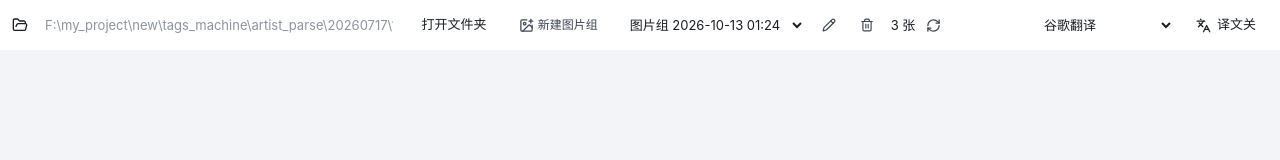
Test case: workspace bar › renames the current image group inline
Step 1. Click the button named "改名" → (829, 25), box [815,11,843,39]
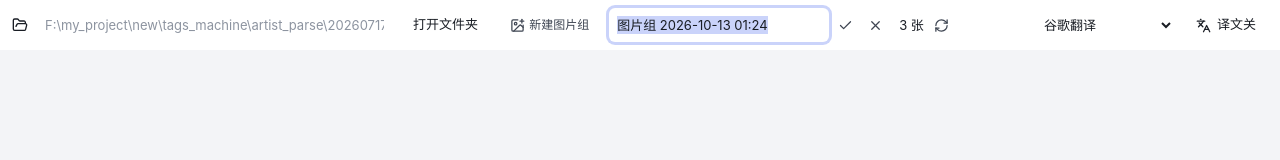
Now the field named "工作区名称" holds "图片组 2026-10-13 01:24"
Step 2. Replace the text in the field named "工作区名称" with "奏 立绘" → (719, 25), box [609,8,829,42]
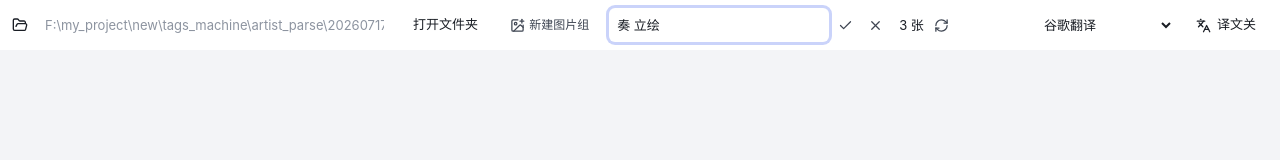
Step 3. Submit the form named "工作区名称", box [609,8,889,42]
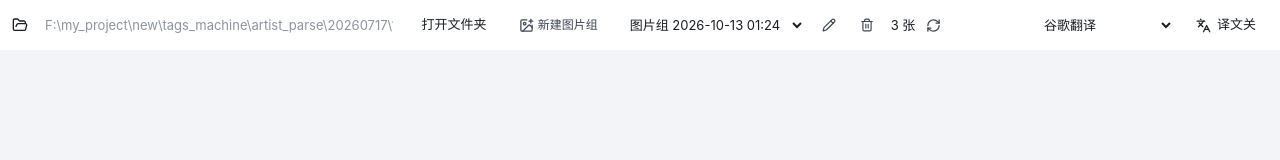
Now the field labelled "工作区名称" is gone
# Esc 取消，不改名。
Step 4. Click the button named "改名" → (829, 25), box [815,11,843,39]
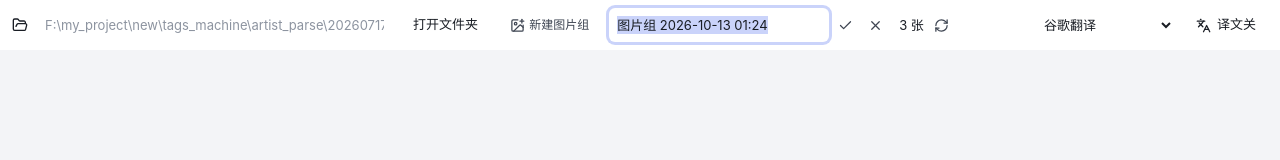
Step 5. Press Escape in the field named "工作区名称", box [609,8,829,42]
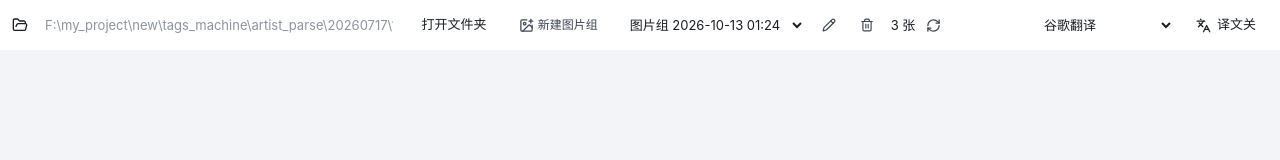
Now the field labelled "工作区名称" is gone
